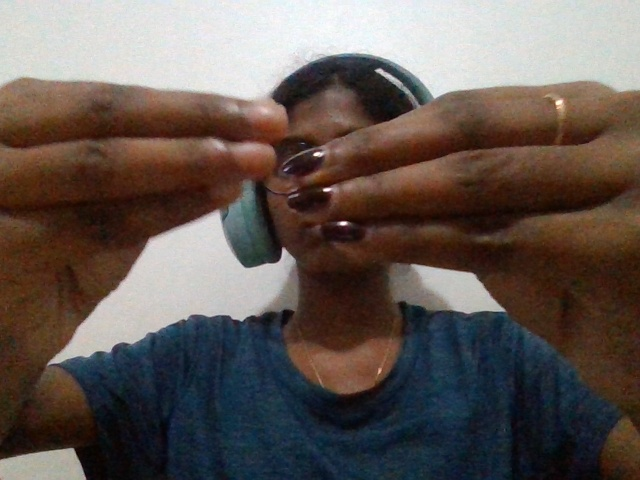More: (2, 64, 640, 362)
